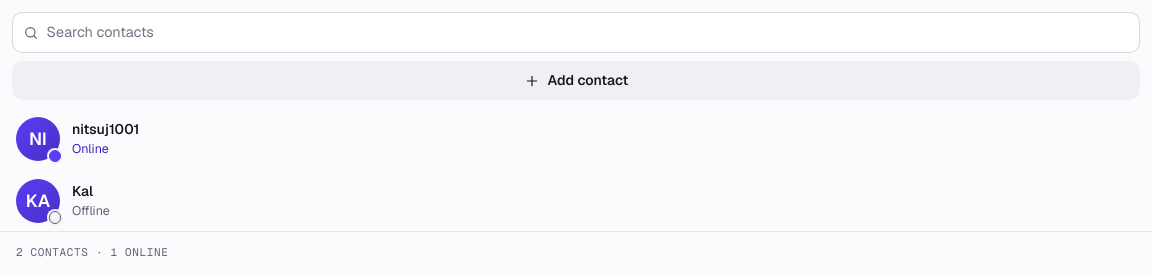
Test: Contacts › filters by name
Step 1. Type "ka" into the search field labelled "Search contacts" → (576, 33), box x1=12 y1=12 x2=1140 y2=53
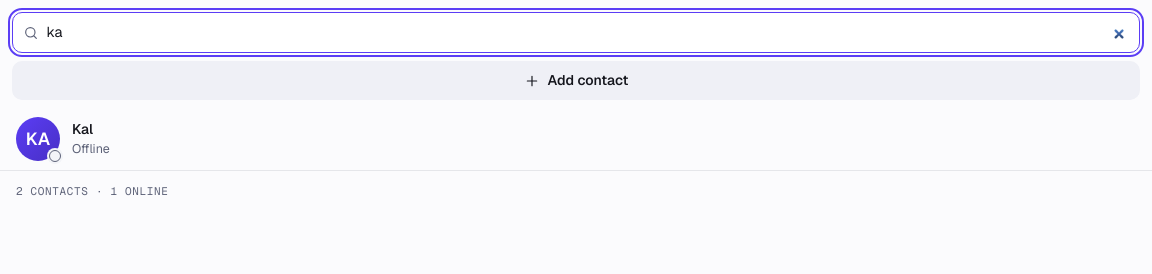
Check: the text "Kal" is shown, box x1=72 y1=120 x2=93 y2=138
Check: the button "nitsuj1001" is gone
